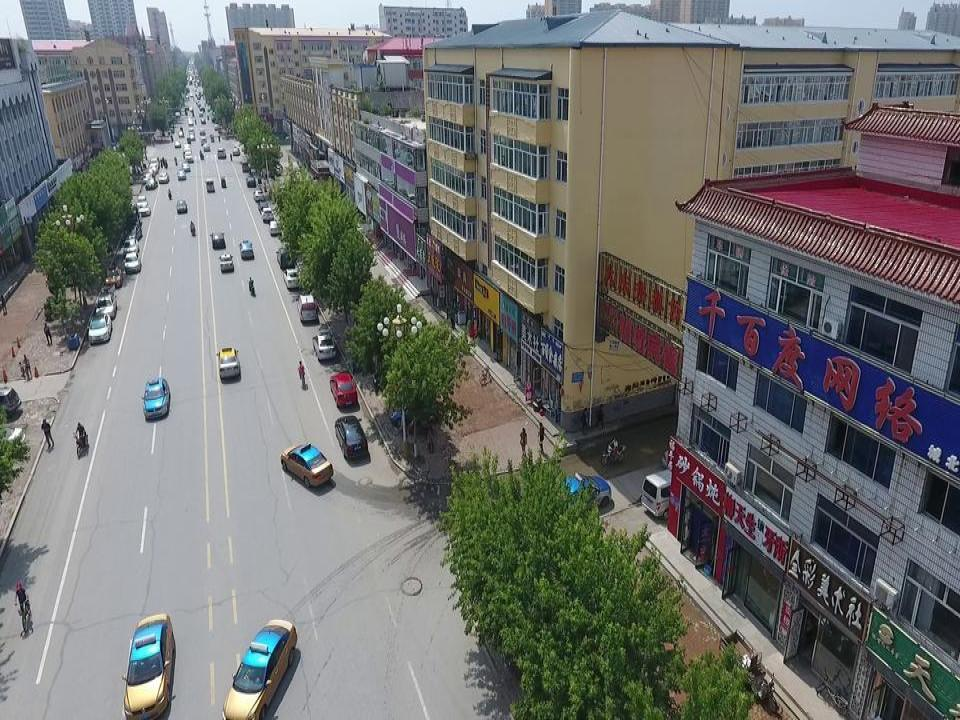car: (221, 616, 299, 720), (122, 610, 175, 720), (544, 472, 612, 511), (278, 441, 333, 488), (335, 414, 369, 458), (142, 376, 170, 420), (329, 372, 359, 409), (87, 310, 112, 346), (216, 347, 241, 380), (312, 332, 337, 360), (0, 423, 26, 445), (0, 388, 22, 412), (96, 295, 118, 317), (122, 224, 143, 243), (282, 268, 301, 289), (123, 251, 141, 272), (105, 266, 123, 286), (218, 252, 235, 273), (237, 238, 254, 258), (120, 238, 140, 255), (259, 159, 283, 173), (209, 231, 227, 249), (135, 202, 151, 218), (254, 140, 273, 152), (175, 200, 189, 216), (261, 207, 276, 221), (269, 218, 282, 234), (142, 172, 153, 187), (244, 175, 256, 188), (258, 200, 270, 212), (252, 189, 265, 200), (137, 195, 147, 209), (176, 168, 187, 180), (158, 172, 170, 183), (145, 168, 155, 181), (216, 148, 227, 159), (144, 179, 156, 189), (148, 157, 158, 167), (184, 152, 193, 163), (182, 161, 191, 171), (183, 147, 191, 156), (232, 146, 241, 154)
truck: (126, 208, 141, 228)
van: (642, 470, 704, 518), (296, 293, 319, 323), (275, 247, 294, 268), (204, 179, 216, 193), (241, 160, 249, 173)
